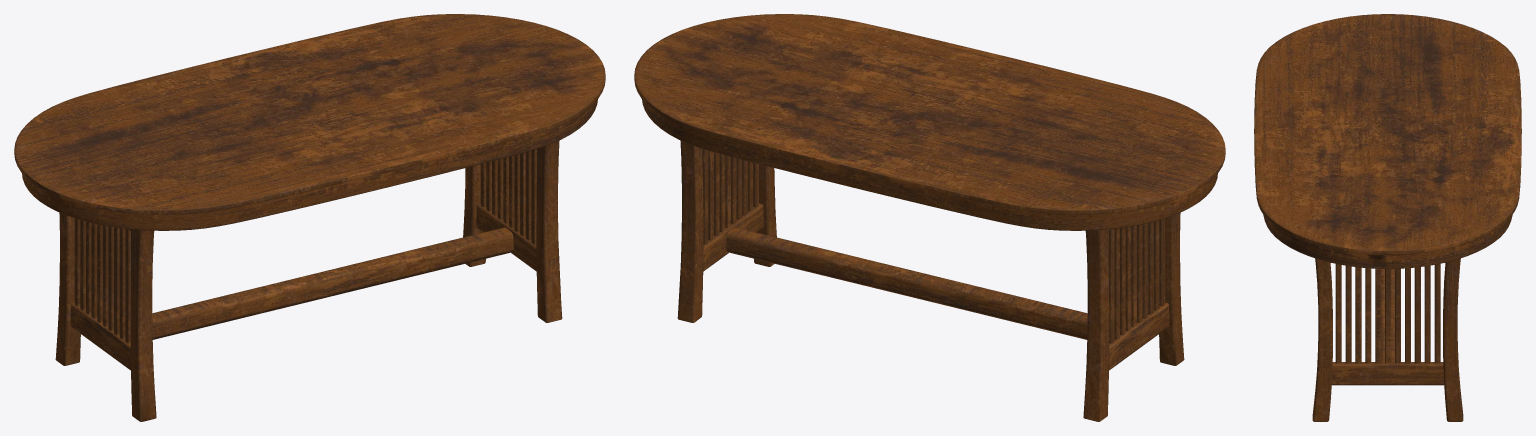
Rendered from desk_table_clearmeshstudio.glb.
3 views of the same model, side by side, from view 1: azimuth 30°, elevation 25°; view 2: azimuth 150°, elevation 25°; view 3: azimuth 270°, elevation 25° (orthographic). The views are drawn at different scales.
Parts seen in each view (by area): view 1: Table-01_Table-01_0; view 2: Table-01_Table-01_0; view 3: Table-01_Table-01_0.
Part boxes in pixels (<box>): Table-01_Table-01_0: <box>14,14,605,421</box>; Table-01_Table-01_0: <box>634,14,1225,421</box>; Table-01_Table-01_0: <box>1254,14,1521,421</box>.
Size of the model in its own units: 2.27 by 0.8934 by 1.08.
Materials: 1 (1 with a texture image).
